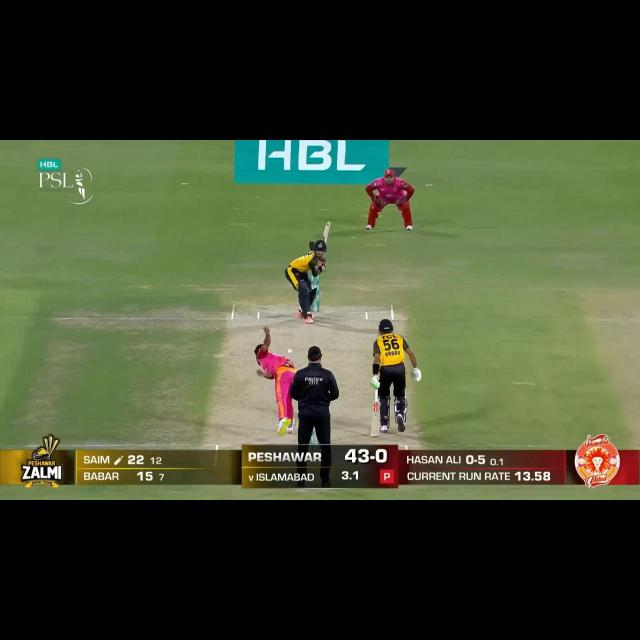bat: (369, 402, 382, 436), (321, 222, 334, 242)
toe: (369, 429, 380, 437), (322, 221, 333, 228)
